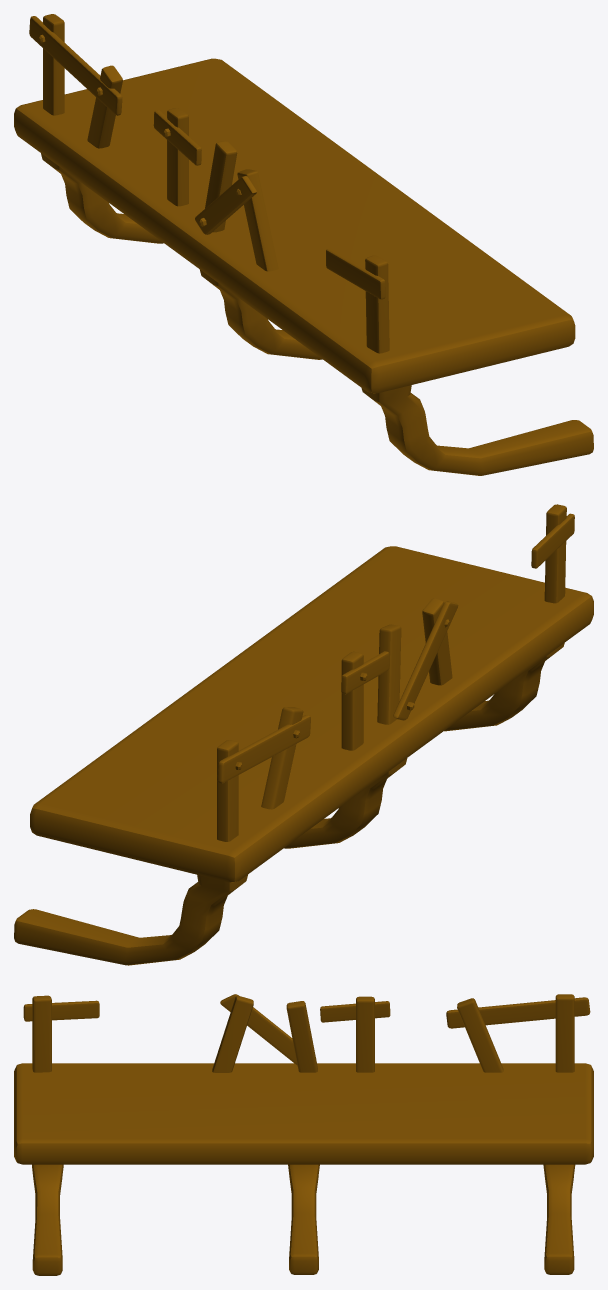
Rendered from Platform_Wood.fbx.
3 renders of one model, top to bottom at view 1: azimuth 30°, elevation 25°; view 2: azimuth 150°, elevation 25°; view 3: azimuth 270°, elevation 25°, orthographic. The views are drawn at different scales.
Visible parts, largest first — view 1: pCube1, pCube13, pCube14, pCube12, pCube4, pCube7, pCube8, pCube5, pCube2, pCube10, pCube3, pCube6 (+2 smaller); view 2: pCube1, pCube14, pCube12, pCube13, pCube4, pCube6, pCube10, pCube5, pCube2, pCube3, pCube8, pCube7 (+2 smaller); view 3: pCube1, pCube13, pCube12, pCube14, pCube4, pCube7, pCube3, pCube2, pCube8, pCube6, pCube5, pCube10 (+2 smaller).
Part boxes in pixels (x1=…): pCube1: x1=14, y1=58, x2=575, y2=393; pCube13: x1=361, y1=385, x2=593, y2=475; pCube14: x1=41, y1=153, x2=163, y2=243; pCube12: x1=199, y1=269, x2=322, y2=359; pCube4: x1=29, y1=16, x2=122, y2=115; pCube7: x1=237, y1=169, x2=278, y2=271; pCube8: x1=365, y1=255, x2=389, y2=353; pCube5: x1=167, y1=108, x2=188, y2=206; pCube2: x1=43, y1=14, x2=64, y2=115; pCube10: x1=195, y1=176, x2=256, y2=234; pCube3: x1=87, y1=65, x2=122, y2=148; pCube6: x1=205, y1=141, x2=237, y2=232; pCube1: x1=30, y1=546, x2=593, y2=882; pCube14: x1=14, y1=874, x2=247, y2=965; pCube12: x1=284, y1=758, x2=407, y2=848; pCube13: x1=444, y1=643, x2=564, y2=731; pCube4: x1=217, y1=715, x2=310, y2=783; pCube6: x1=377, y1=624, x2=401, y2=724; pCube10: x1=393, y1=601, x2=458, y2=720; pCube5: x1=341, y1=651, x2=363, y2=750; pCube2: x1=217, y1=740, x2=238, y2=841; pCube3: x1=261, y1=707, x2=303, y2=809; pCube8: x1=544, y1=504, x2=566, y2=603; pCube7: x1=422, y1=598, x2=452, y2=685; pCube1: x1=14, y1=1063, x2=593, y2=1164; pCube13: x1=32, y1=1164, x2=63, y2=1275; pCube12: x1=288, y1=1164, x2=319, y2=1274; pCube14: x1=543, y1=1164, x2=575, y2=1274; pCube4: x1=446, y1=997, x2=590, y2=1028; pCube7: x1=212, y1=995, x2=253, y2=1072; pCube3: x1=457, y1=998, x2=503, y2=1072; pCube2: x1=555, y1=994, x2=574, y2=1072; pCube8: x1=32, y1=995, x2=51, y2=1072; pCube6: x1=286, y1=1001, x2=317, y2=1072; pCube5: x1=356, y1=996, x2=374, y2=1072; pCube10: x1=220, y1=994, x2=316, y2=1065.
Size of the model in its own units: 1.52 by 1.5 by 3.97.
